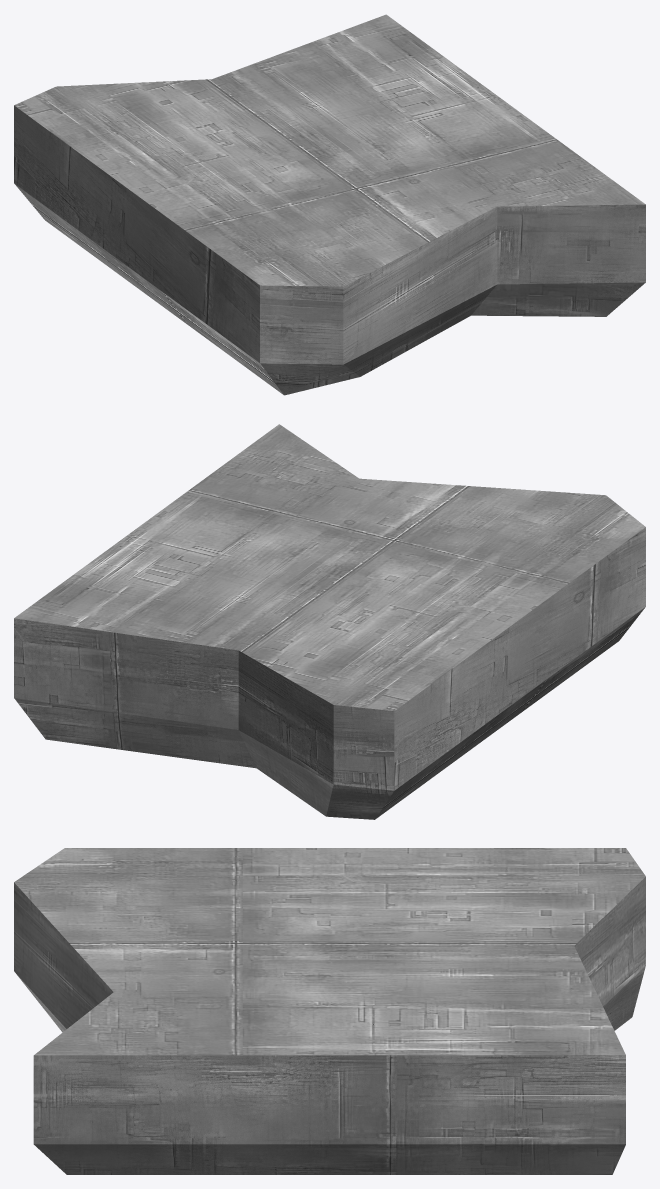
The model's file is Platform_Broken_03.fbx.
The picture shows the model from 3 angles, top to bottom: view 1: azimuth 30°, elevation 25°; view 2: azimuth 150°, elevation 25°; view 3: azimuth 270°, elevation 25°; orthographic projection. The views are drawn at different scales.
Parts seen in each view (by area): view 1: Platform_Broken_03; view 2: Platform_Broken_03; view 3: Platform_Broken_03.
Boxes of the visible parts, left/top/right/bottom form: Platform_Broken_03: left=14, top=14, right=645, bottom=395; Platform_Broken_03: left=14, top=424, right=645, bottom=819; Platform_Broken_03: left=14, top=848, right=645, bottom=1174.
Bounding box in the file's own units: 1000 × 300 × 1288.
